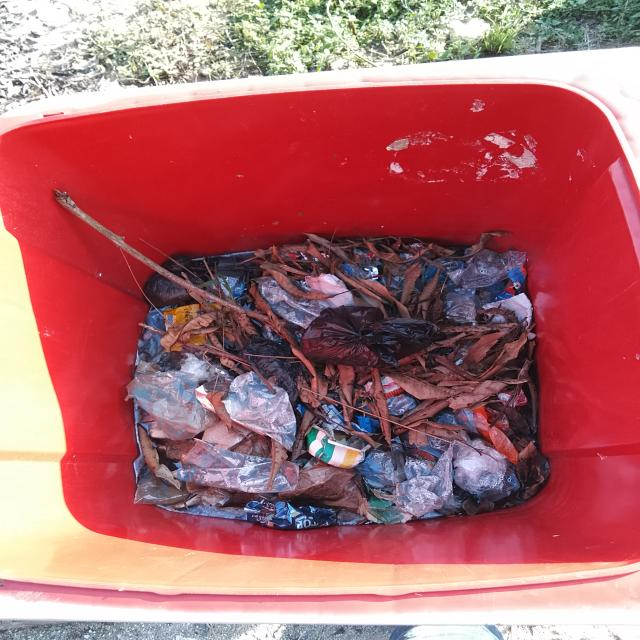half-full: (49, 90, 640, 573)
